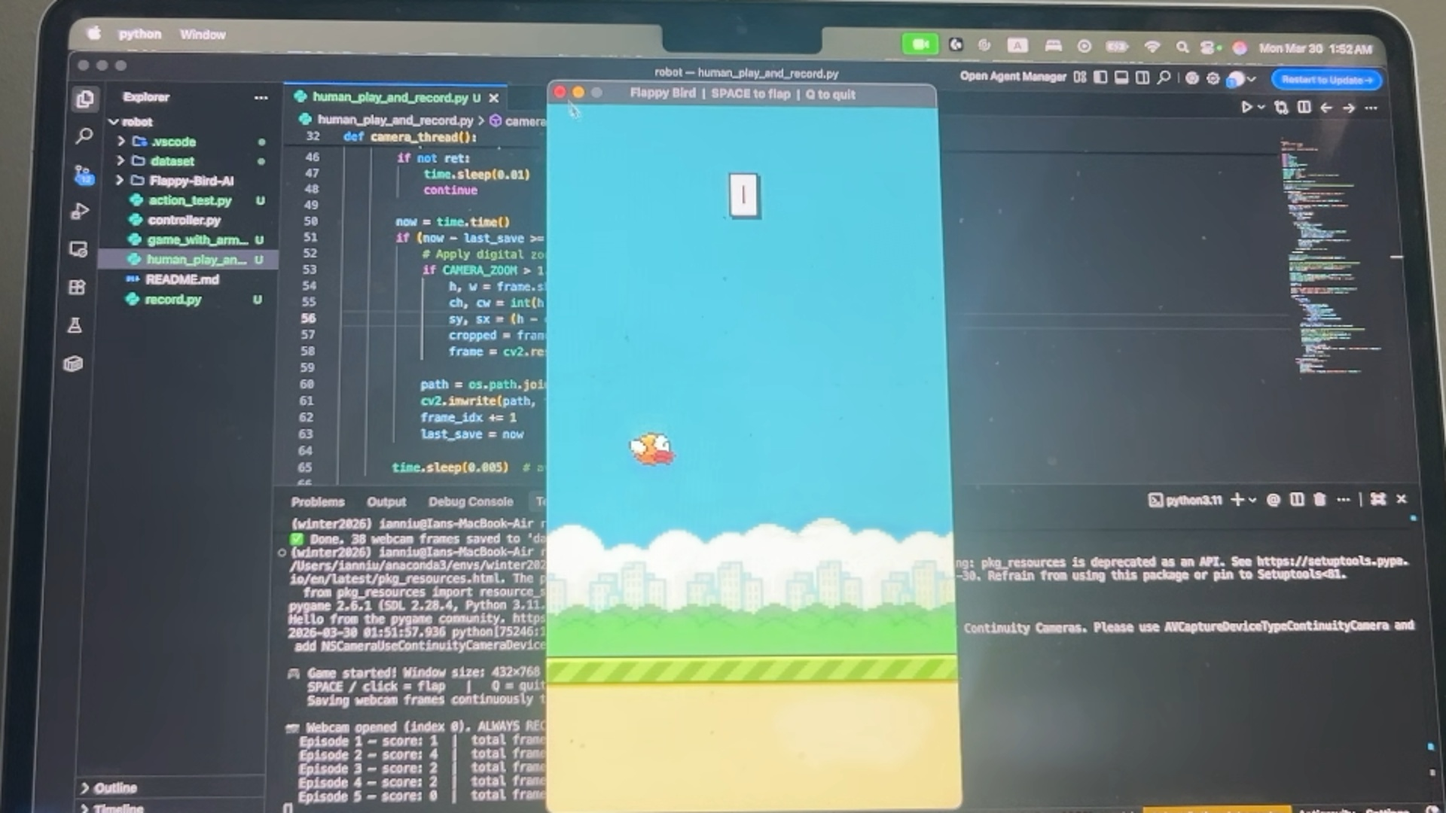bird: (624, 426, 678, 473)
